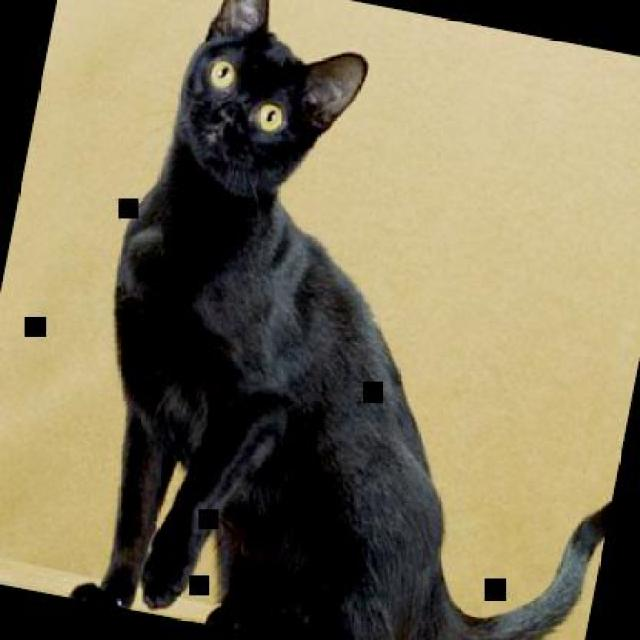cat: (55, 0, 638, 638)
